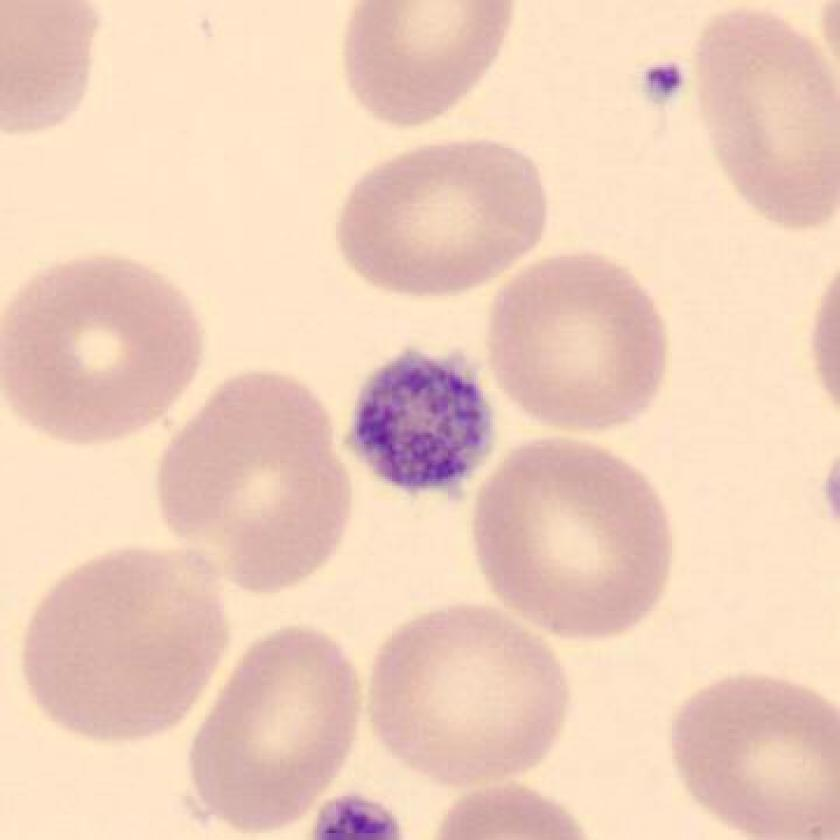platelets: (346, 344, 505, 499), (302, 788, 395, 840), (633, 54, 692, 112)
